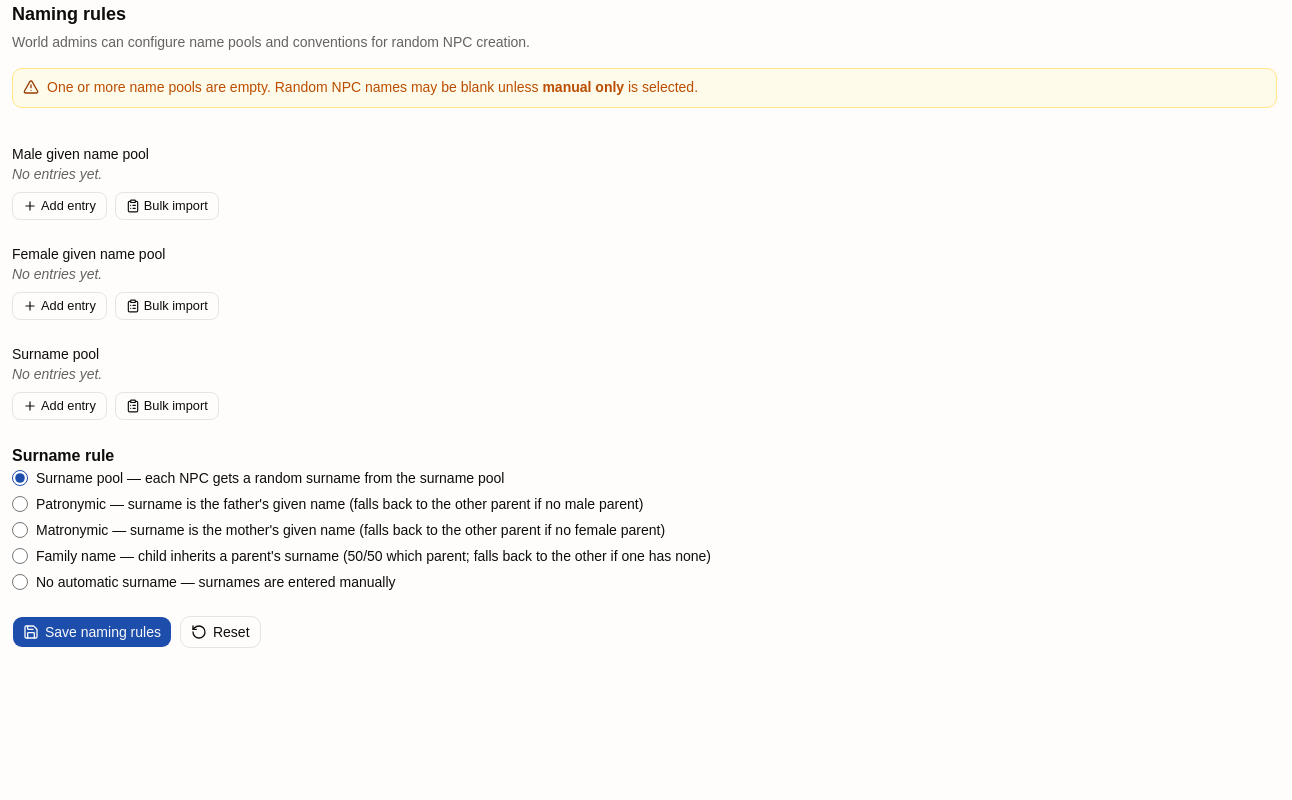
it: WorldNamingConfigPanel › selecting No automatic surname suppresses the empty pool warning
Expected: the heading "Naming rules" is shown, x1=12 y1=4 x2=126 y2=24
Expected: the message is shown, x1=12 y1=68 x2=1277 y2=108
Click the radio button labelled "No automatic surname — surnames are entered manually": (20, 582) x1=12 y1=574 x2=28 y2=590
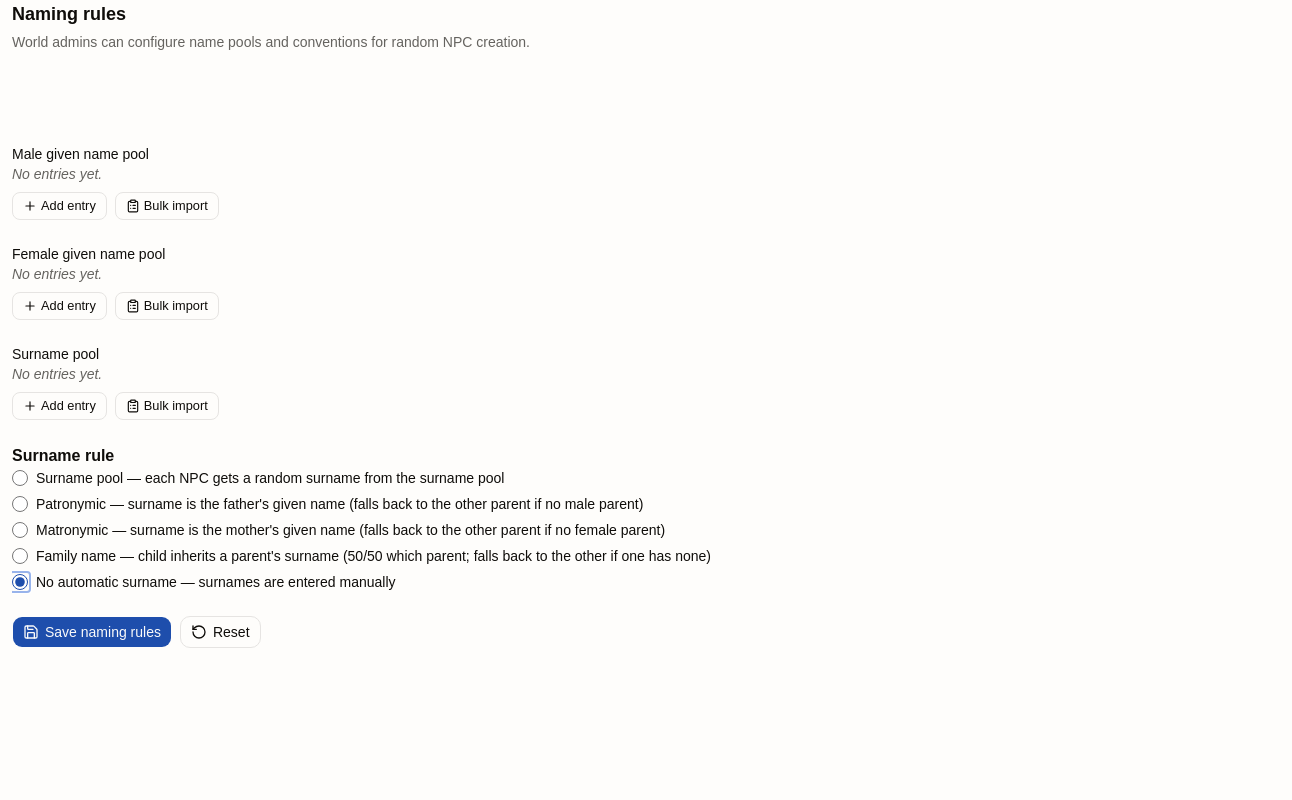
Expected: the message is gone
